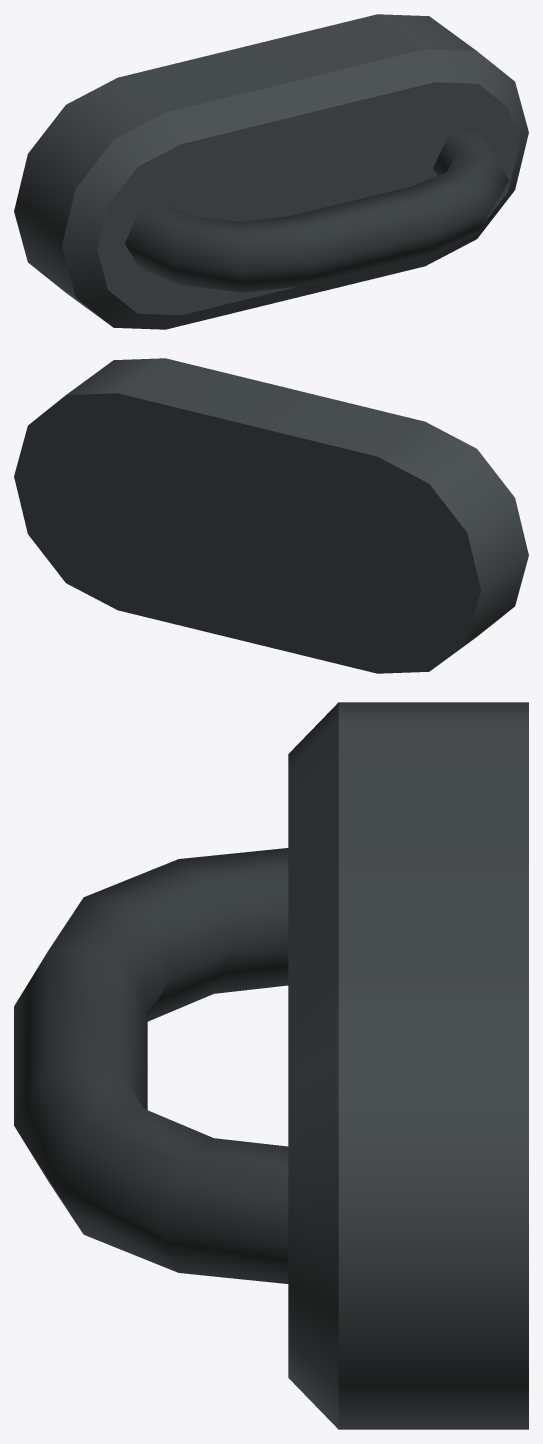
File: Charm_Hook_04.fbx
The picture shows the model from 3 angles, top to bottom: view 1: azimuth 30°, elevation 25°; view 2: azimuth 150°, elevation 25°; view 3: azimuth 270°, elevation 25°; orthographic projection. The views are drawn at different scales.
Parts seen in each view (by area): view 1: Charm_Hook_04; view 2: Charm_Hook_04; view 3: Charm_Hook_04.
Boxes of the visible parts, x1,y1,x2,y2 form: Charm_Hook_04: (14,14,528,329); Charm_Hook_04: (14,358,528,673); Charm_Hook_04: (14,702,528,1429).
Size of the model in its own units: 2.58 by 1.14 by 1.24.
